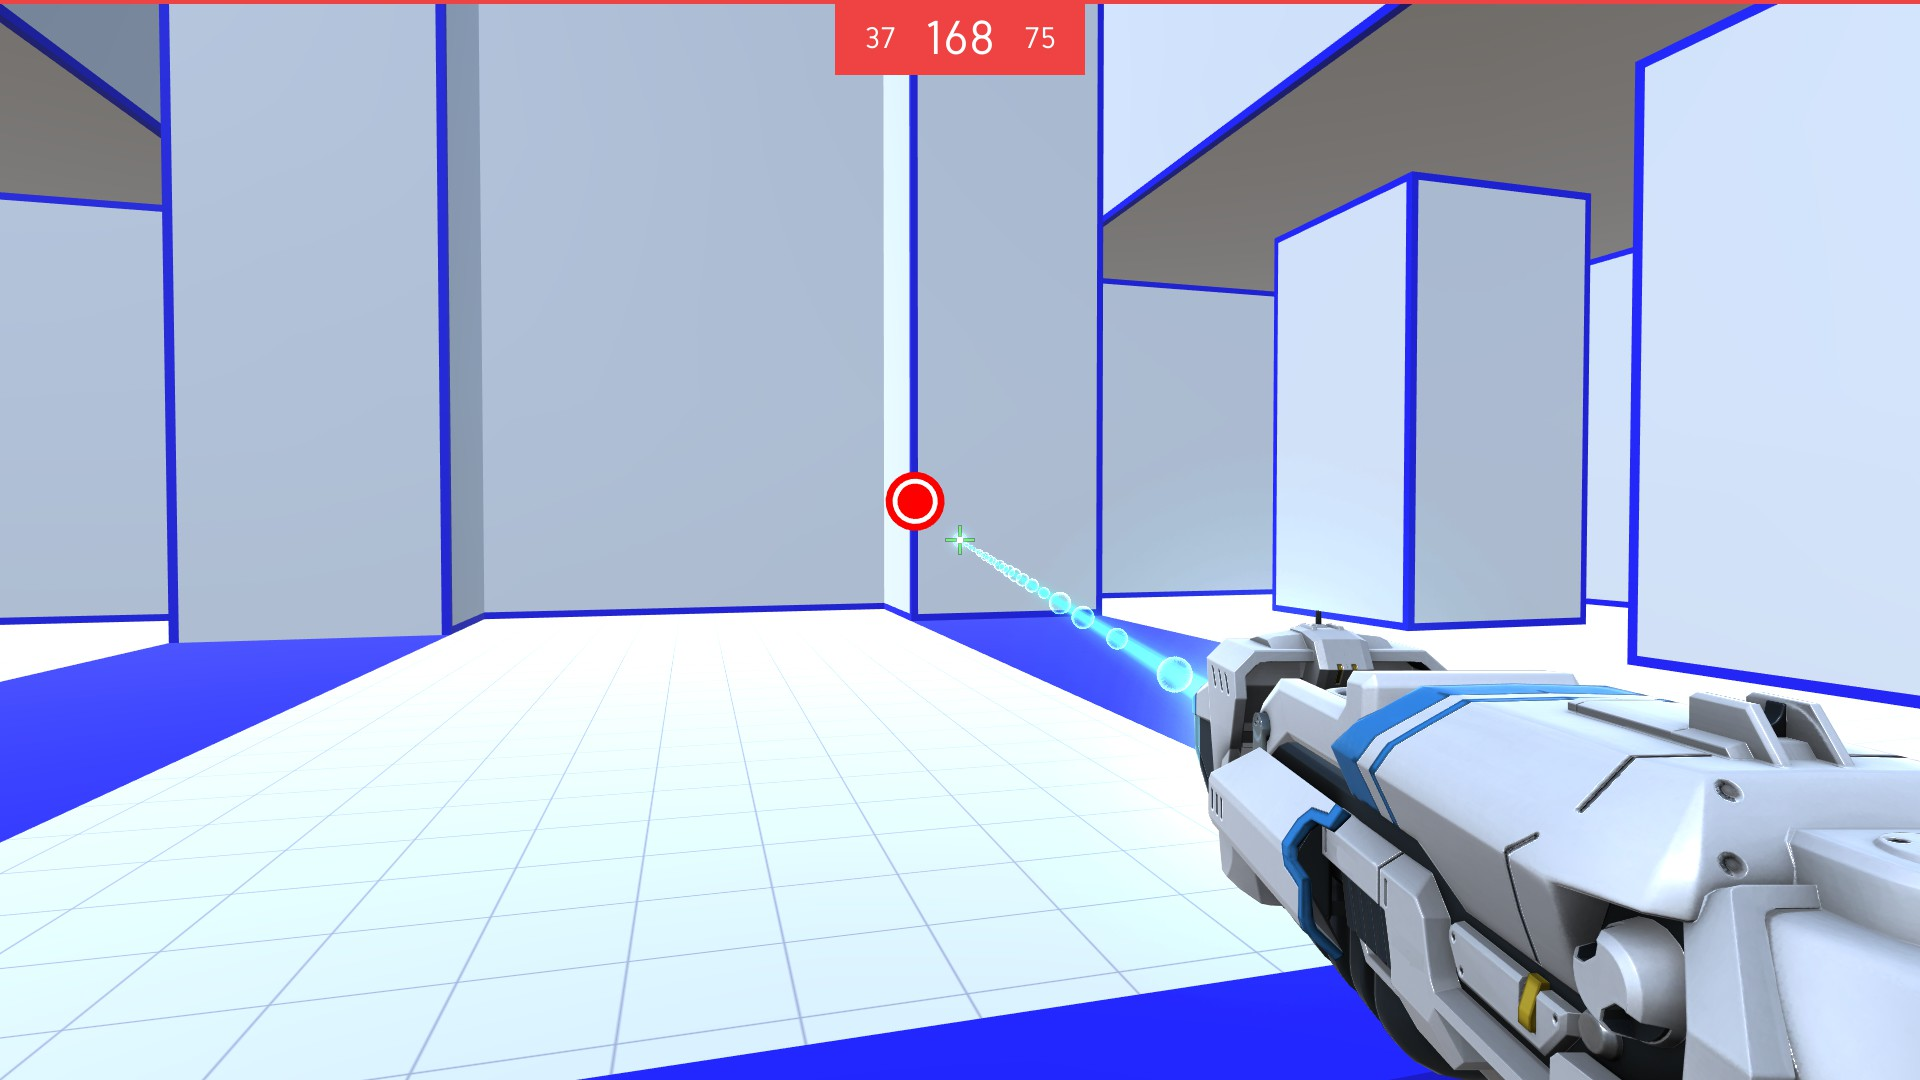target: (884, 471, 945, 535)
